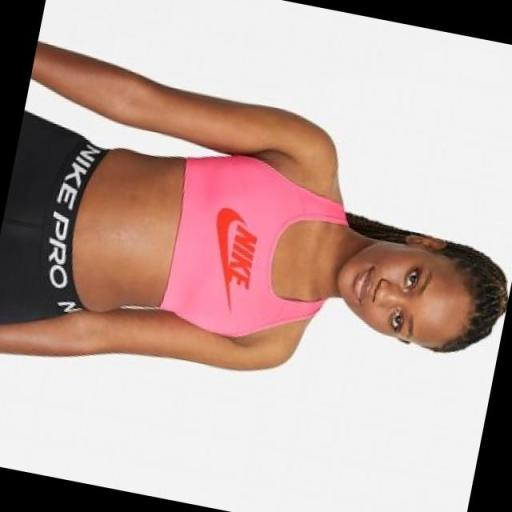Nike: (204, 207, 242, 294), (225, 228, 260, 286)
